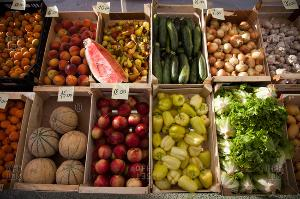bell_pepper: (153, 88, 221, 198)
garlic: (204, 5, 270, 79), (258, 10, 300, 78)
melon: (24, 90, 90, 191)
peach: (90, 88, 148, 190), (41, 6, 99, 88)
pear: (98, 16, 150, 84)
zucchini: (152, 13, 210, 86)
